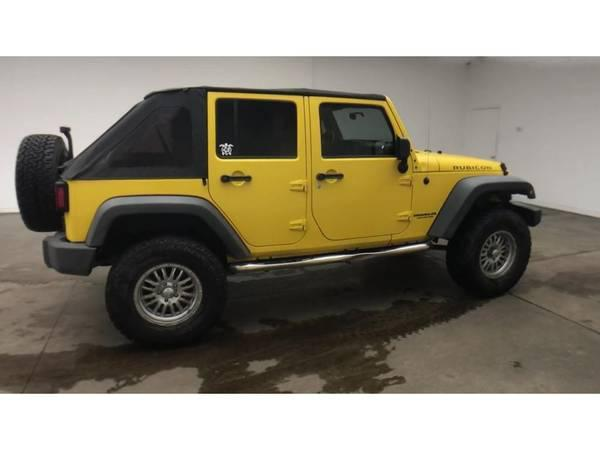Front_Fender: (414, 149, 537, 244)
Front_Right_Door: (313, 155, 417, 251)
Front_Right_Window: (307, 92, 414, 159)
Rear_Bumper: (39, 230, 96, 275)
Rear_Fender: (57, 87, 250, 258)
Rear_Right_Door: (209, 160, 317, 261)
Rear_Right_Window: (208, 88, 311, 159)
Right_Taillight: (54, 180, 67, 212)
Wheel: (104, 228, 227, 342), (451, 209, 534, 295), (11, 132, 67, 232)
